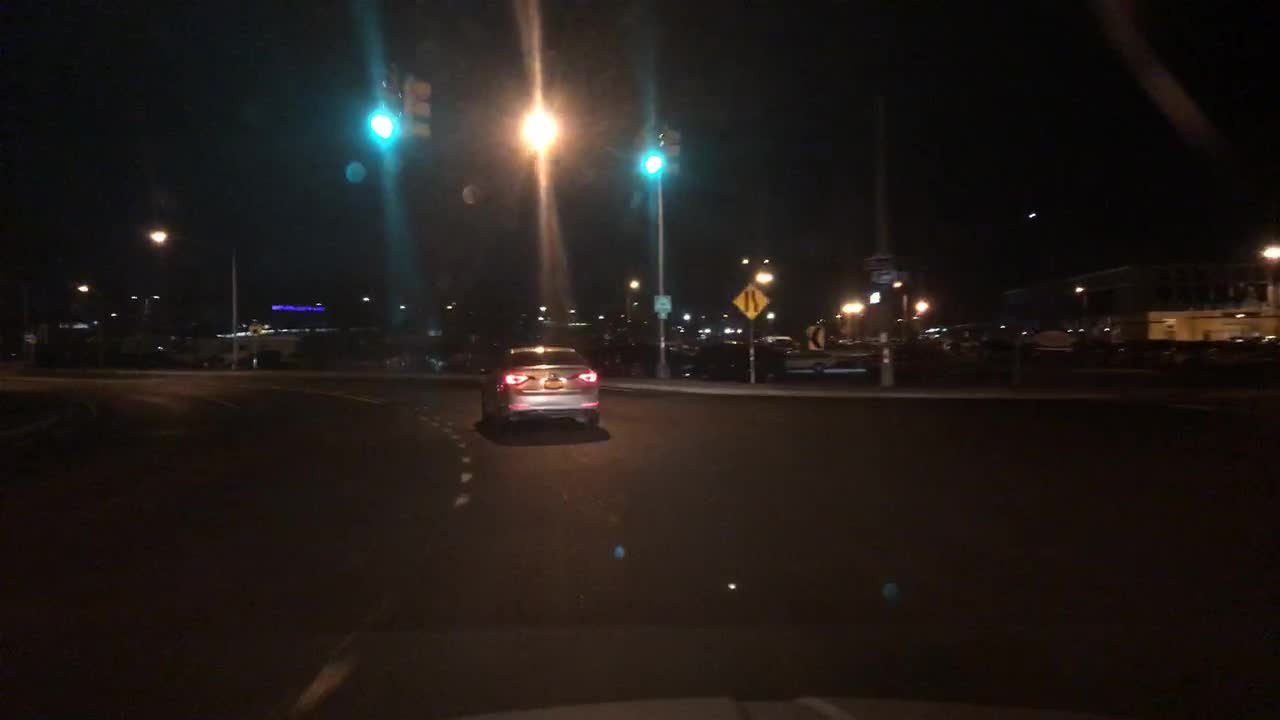car: (478, 340, 601, 428), (776, 345, 837, 372)
traffic light: (404, 76, 435, 147), (368, 61, 389, 142), (641, 128, 659, 185), (662, 125, 681, 179)
traffic sign: (728, 282, 767, 319), (1028, 325, 1074, 353), (871, 271, 911, 291), (804, 320, 828, 348), (652, 294, 673, 319), (864, 254, 896, 267), (248, 322, 259, 334)
